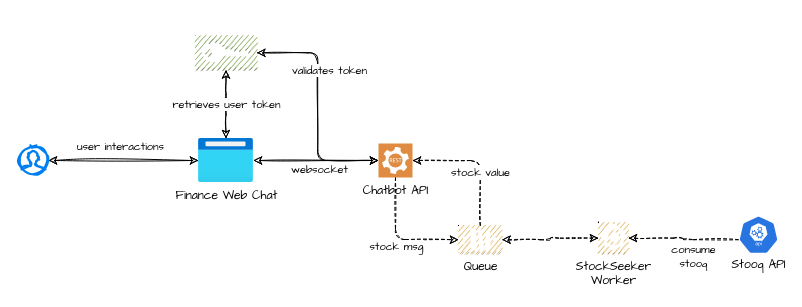
This 802x307 diagram has some shape labels left out. The shapes that lost their labels are listed below. From the top down, each one's box as (x1, y1, x2, y2) in pixels, then its label:
(194, 34, 257, 70): STS
(17, 144, 49, 176): User
